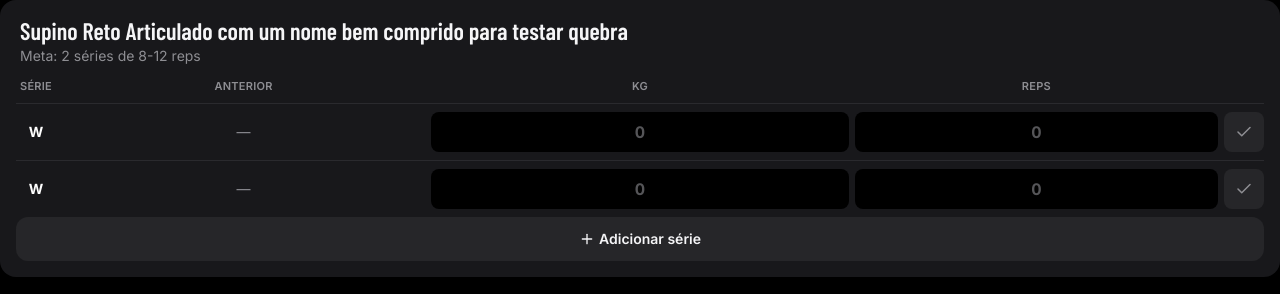
Test: ExerciseSessionCard › confirma a série e vira linha somente leitura na hora
Type "42,5" into the field named "Peso em kg". click: (640, 132)
box: [431,112,849,152]
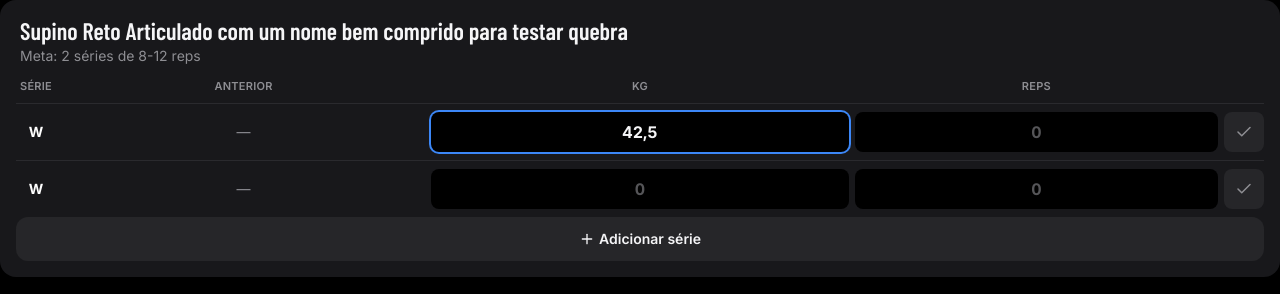
Type "10" into the field named "Repetições". click: (1036, 132)
box: [855,112,1218,152]
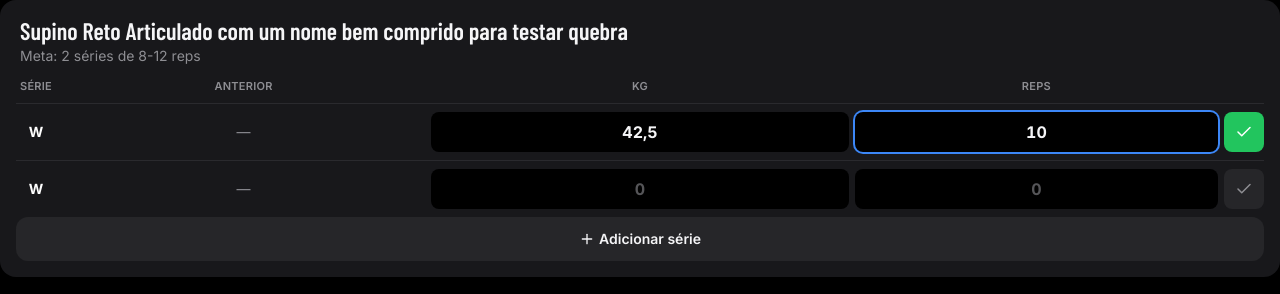
Click the 1st button named "Confirmar série". click: (1244, 132)
box: [1224,112,1264,152]
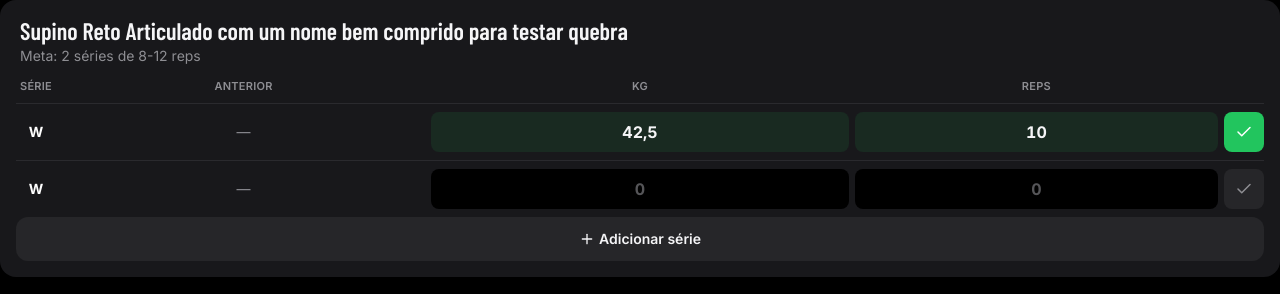
Expected: the number of fields named "Peso em kg" is 1, [431,168,849,208]
Result: the text "42,5" is shown at [431,112,849,152]
